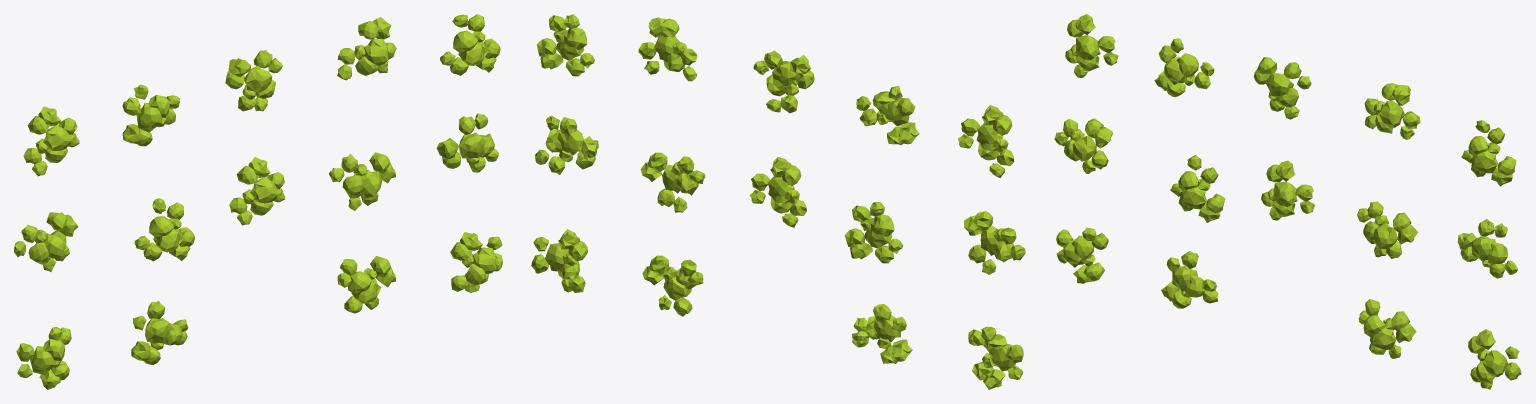
Rendered from leaves1.obj.
3 views of the same model, side by side, from view 1: azimuth 30°, elevation 25°; view 2: azimuth 150°, elevation 25°; view 3: azimuth 330°, elevation 25° (orthographic). The views are drawn at different scales.
Parts seen in each view (by area): view 1: leaves001; view 2: leaves001; view 3: leaves001.
Part boxes in pixels (x1,y1,x2,y2): leaves001: (14,14,502,389); leaves001: (531,14,1025,389); leaves001: (1054,14,1521,389).
Bounding box in the file's own units: 3.01 × 1.74 × 0.168.
